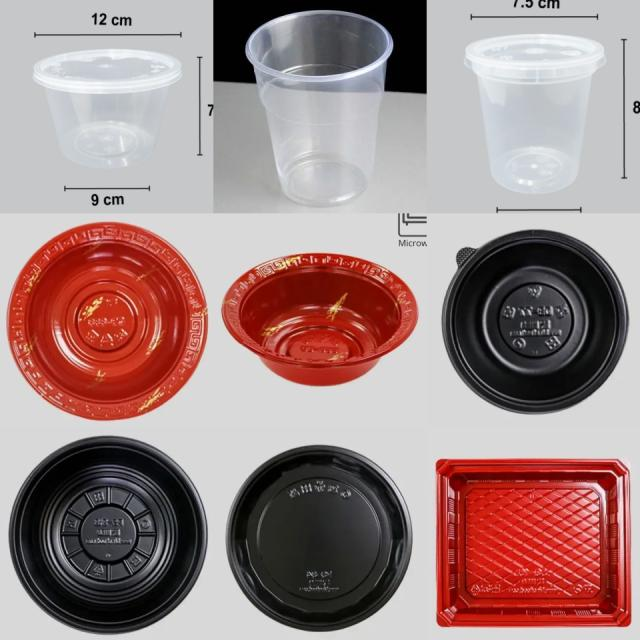Single-Use-Plastic: (8, 222, 208, 419), (10, 436, 206, 632), (228, 445, 411, 631), (442, 231, 629, 412), (436, 459, 631, 626), (246, 11, 392, 205), (222, 254, 418, 385), (464, 34, 606, 194), (32, 49, 181, 168)
